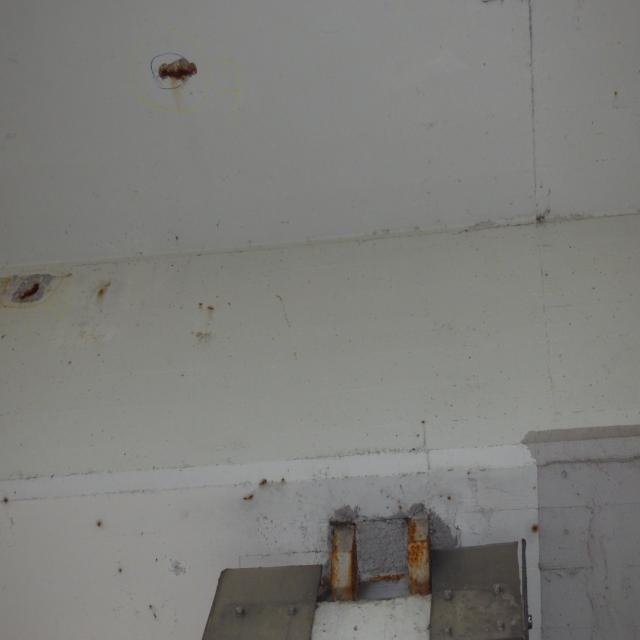corrosion: (292, 501, 456, 596), (93, 510, 165, 626), (138, 36, 212, 100), (6, 272, 52, 310), (238, 477, 292, 506), (93, 280, 124, 308), (190, 295, 218, 320)
